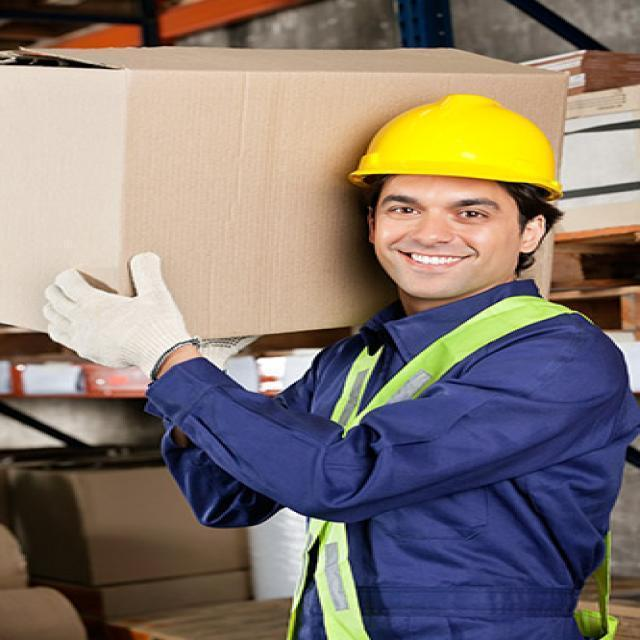Gloves: (34, 247, 207, 384)
Hardhat: (348, 93, 564, 201)
Person: (46, 90, 638, 640)
